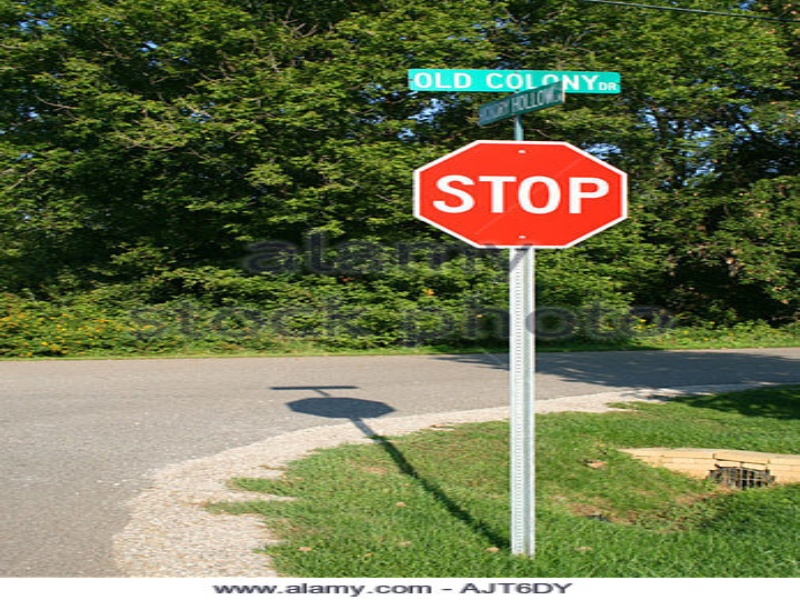stop sign: (409, 139, 634, 252)
